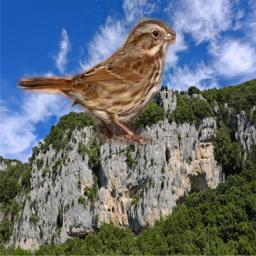Sparrow: (16, 15, 176, 145)
